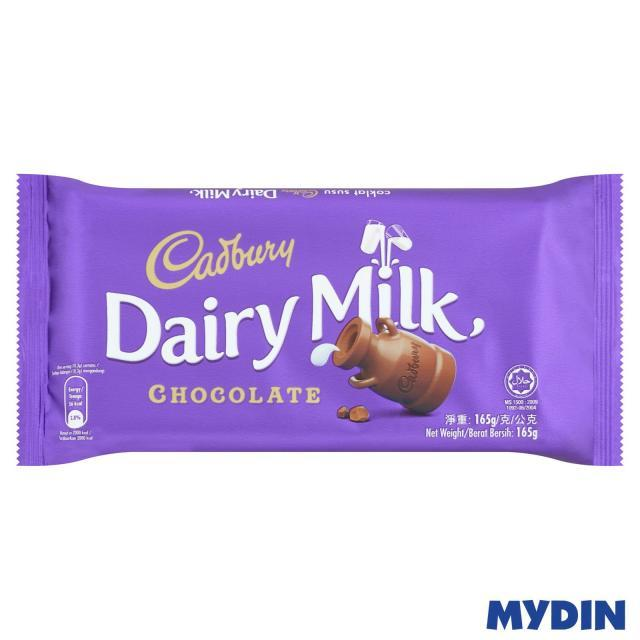cadbury_chocolate: (17, 155, 633, 505)
